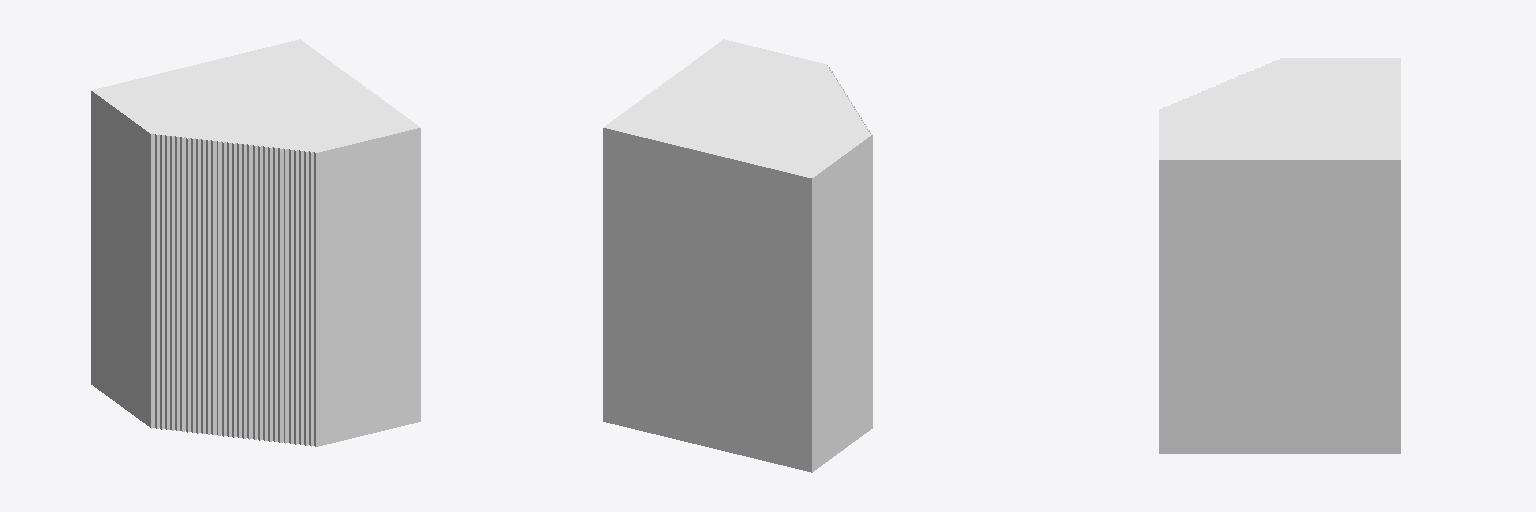
File: building_5.obj
3 renders of one model, left to right at view 1: azimuth 30°, elevation 25°; view 2: azimuth 150°, elevation 25°; view 3: azimuth 270°, elevation 25°, orthographic.
Parts seen in each view (by area): view 1: object 1; view 2: object 1; view 3: object 1.
Part boxes in pixels (bbox=[...]): object 1: bbox=[91, 39, 420, 446]; object 1: bbox=[603, 39, 872, 472]; object 1: bbox=[1159, 58, 1400, 453].
Size of the model in its own units: 6.4 by 8.6 by 6.4.